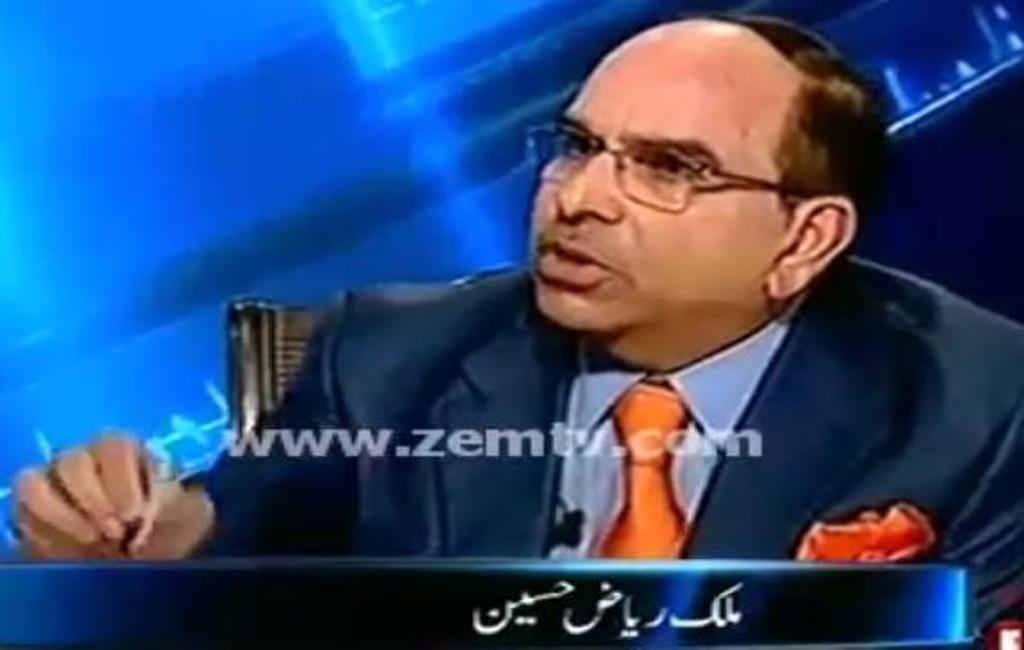face: (536, 18, 788, 330)
